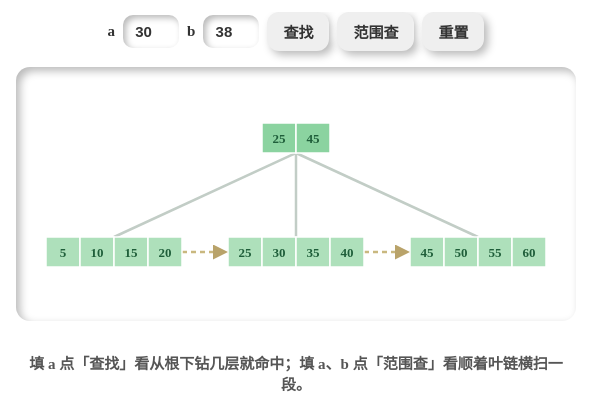
Test: BTreeViz B+ 树互动 › TC-VIZ-BTREEVIZ-06 查找 5：落最左叶、status 含「找到了」
Replace the text in the number field with class "in-a" with "5" at x=151, y=32, box [123,15,179,48]
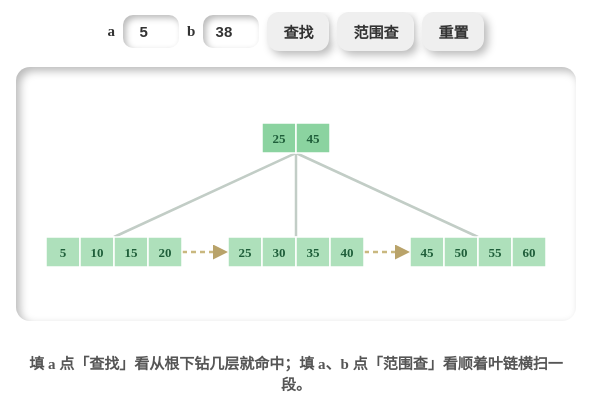
Click the button "查找".
click(298, 32)  # box [267,12,329,51]
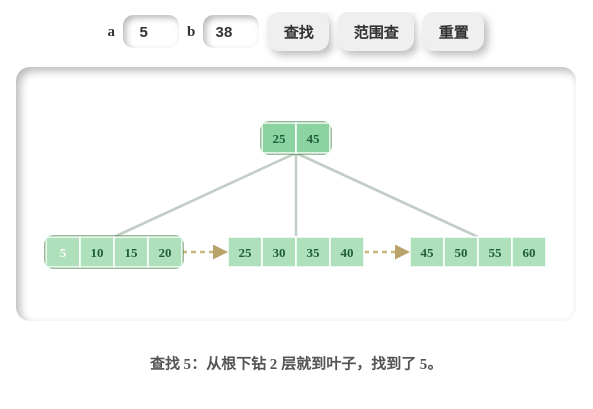
Now the message with class "status" shows "找到了", box [150,356,442,372]
